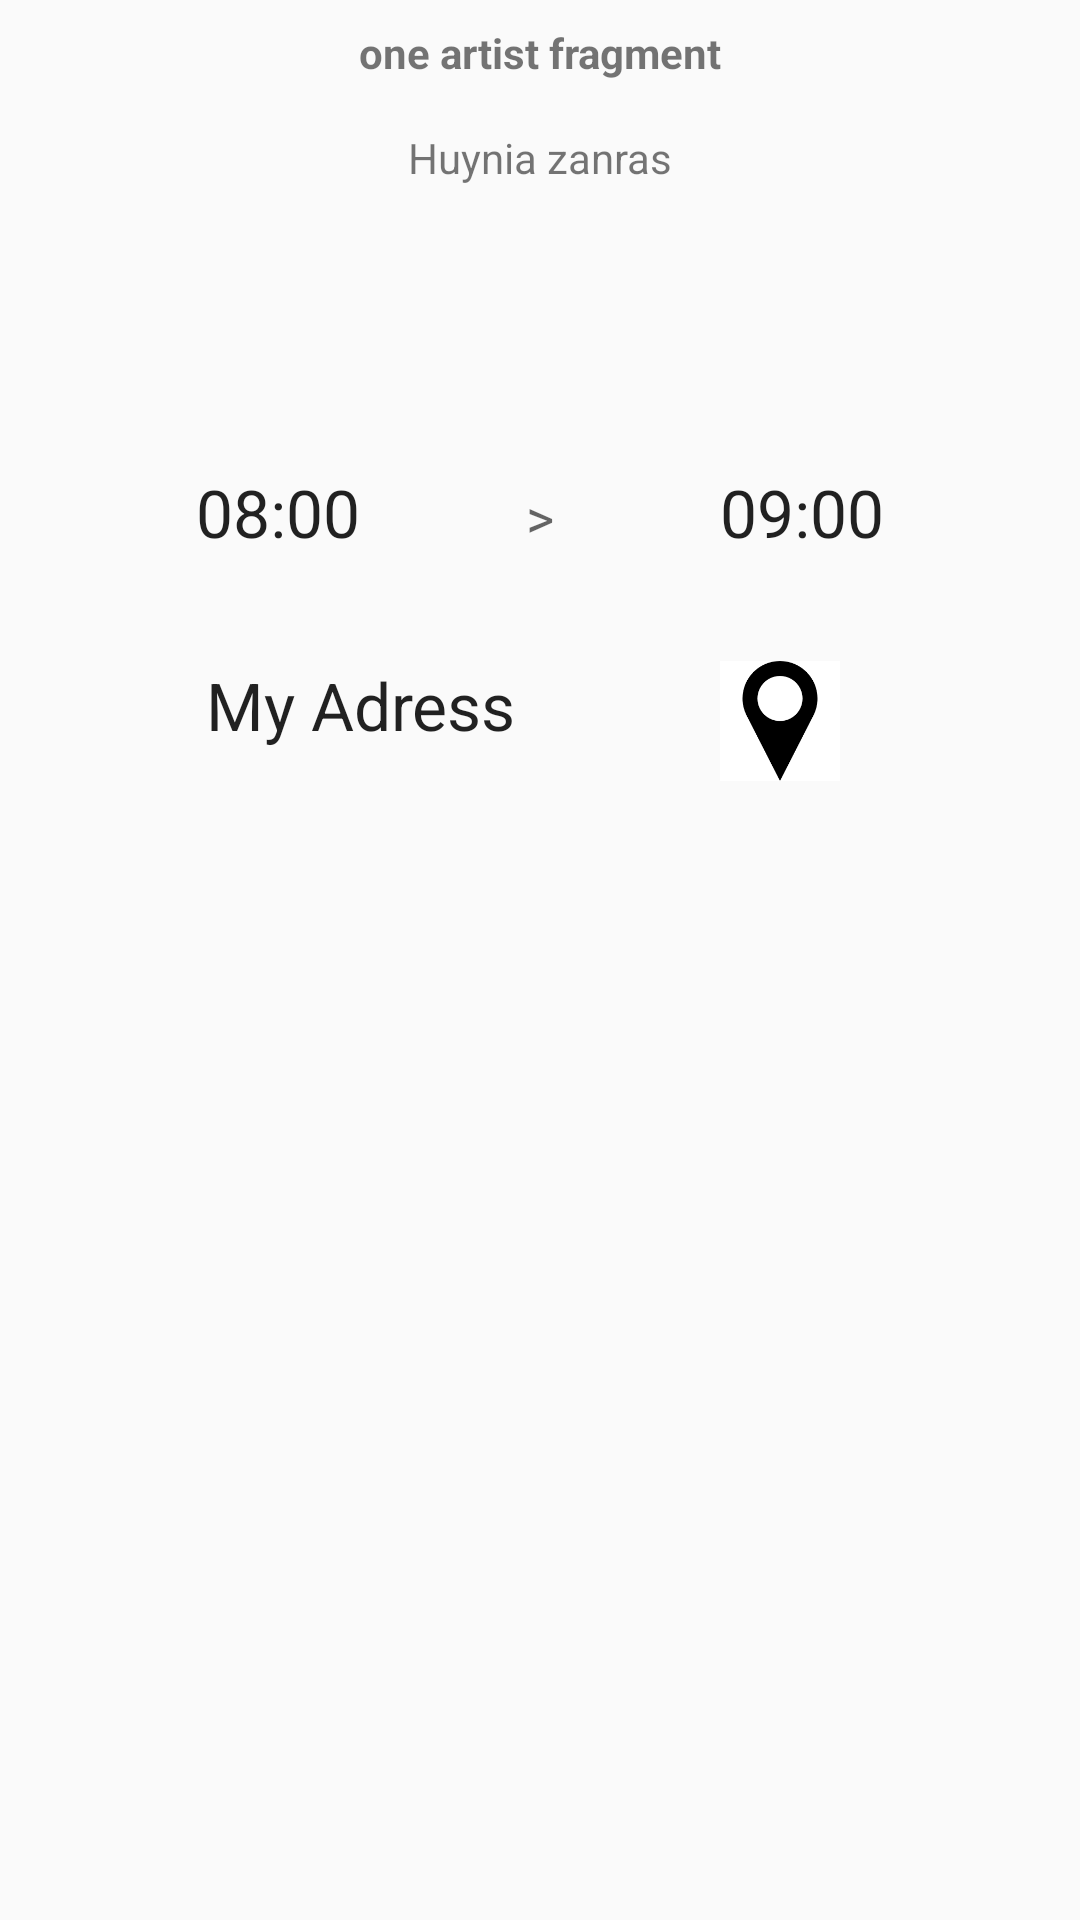

Point at icon controls on the screen. Image size 1080x1920, points as (x,y).
map: (780,721)
